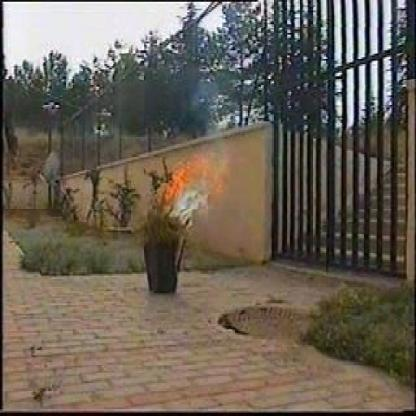fire: (148, 149, 221, 232)
